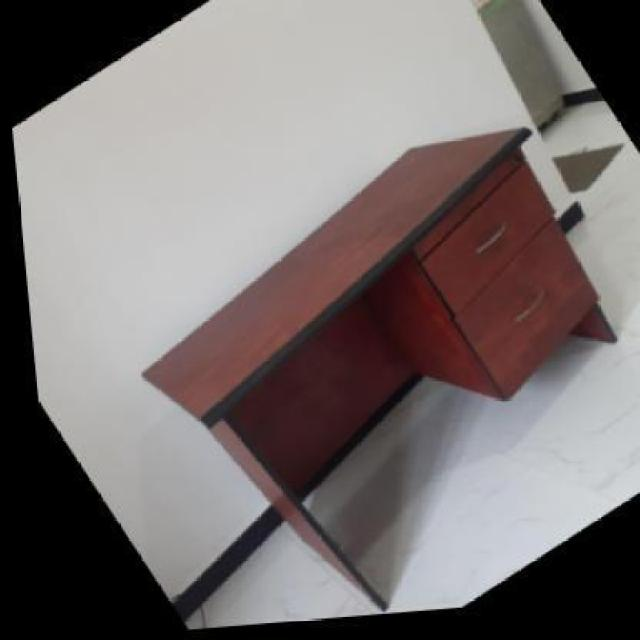tables: (9, 0, 636, 628)
